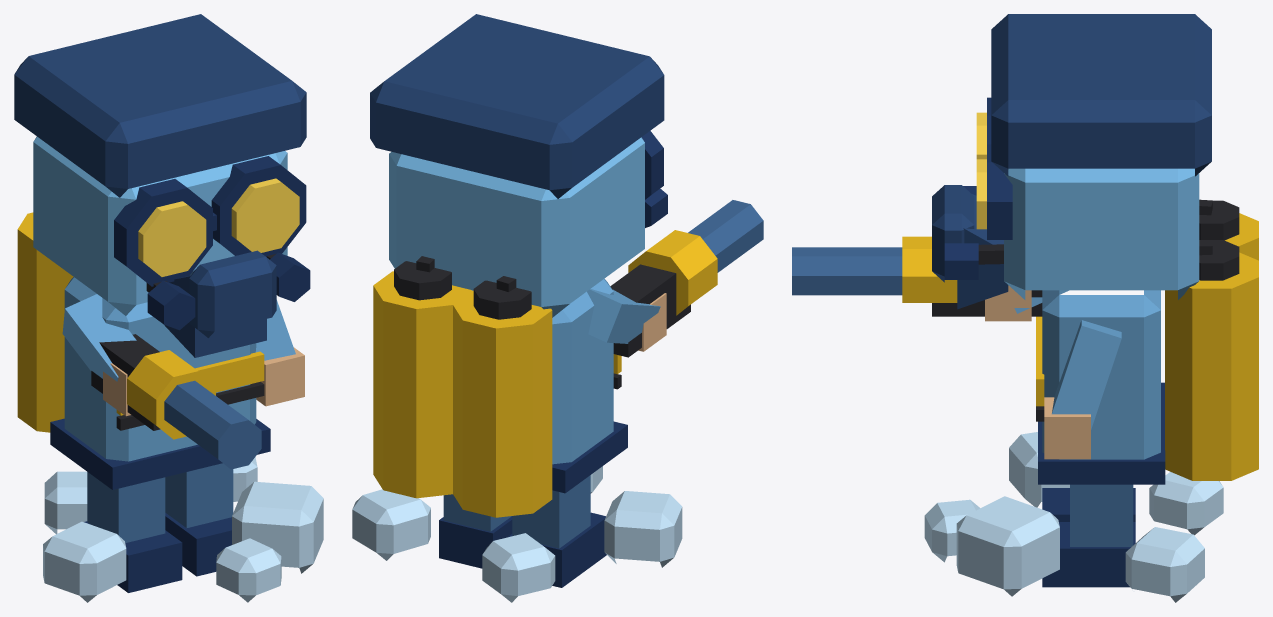
Rendered from blinder_r2.glb.
3 views of the same model, side by side, from view 1: azimuth 30°, elevation 25°; view 2: azimuth 150°, elevation 25°; view 3: azimuth 270°, elevation 25° (orthographic). The views are drawn at different scales.
Parts seen in each view (by area): view 1: blinder_r2_mesh; view 2: blinder_r2_mesh; view 3: blinder_r2_mesh.
Part boxes in pixels (left/top/right/bottom): blinder_r2_mesh: left=14, top=14, right=323, bottom=602; blinder_r2_mesh: left=352, top=14, right=763, bottom=602; blinder_r2_mesh: left=792, top=14, right=1258, bottom=602.
Bounding box in the file's own units: 0.9013 × 1.6 × 1.35.
1 material, 1 textured.
